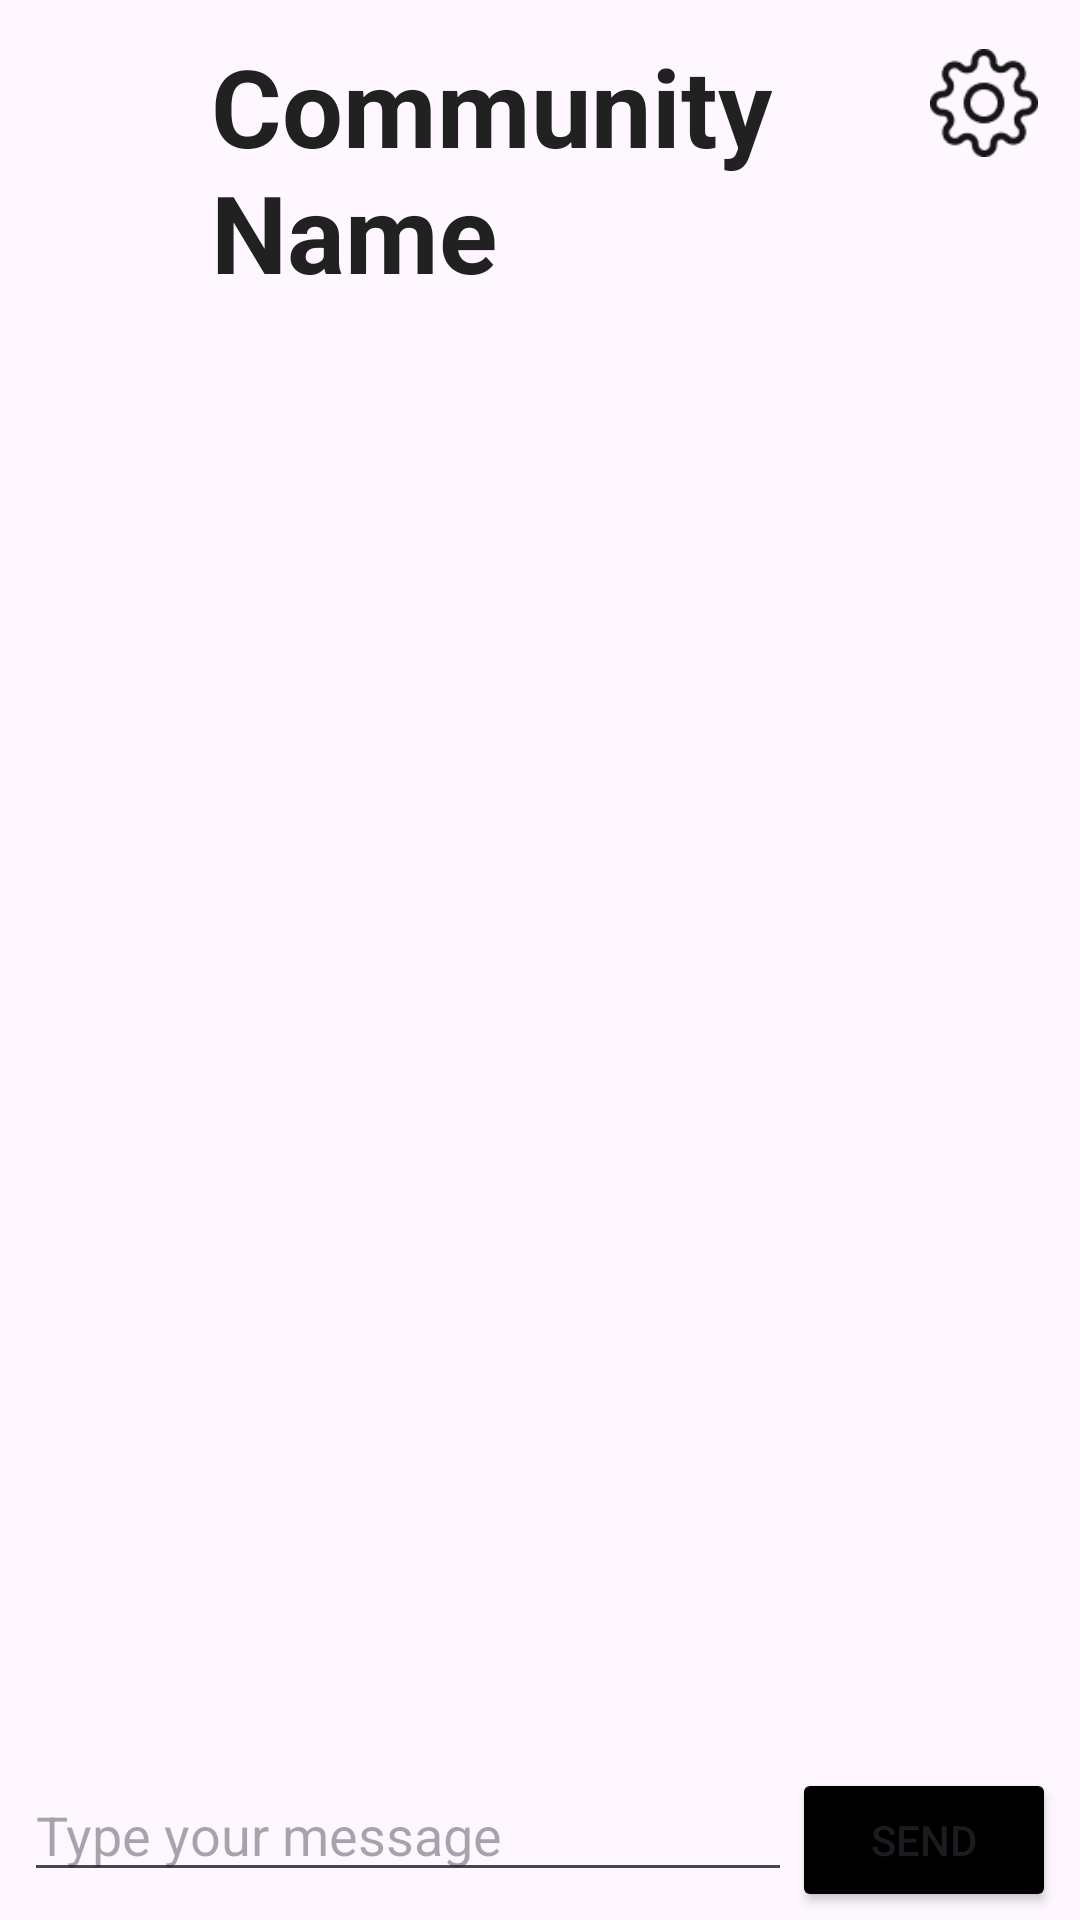

Screen size 1080×1920. Icon name, then its center in pixels as (x,y):
settings: (984,103)
